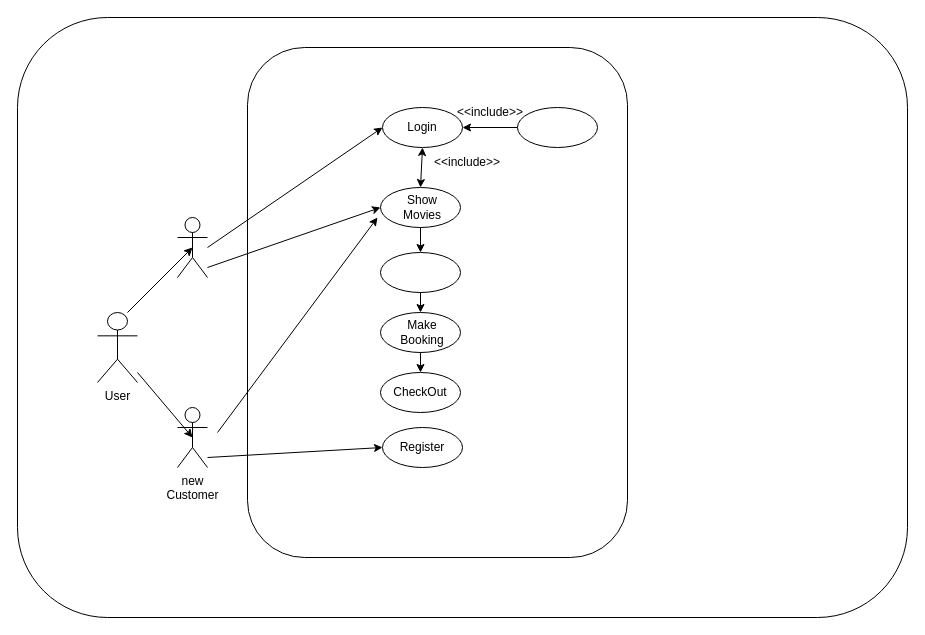
Image size: 925x635. Some labels were removed from this diagram. The box of each missing label's shape, as (x1, y1, x2, y2) in pixels:
Authenticate: (516, 106, 598, 148)
Registered Customer: (176, 216, 208, 278)
View Theatre: (380, 252, 460, 292)
